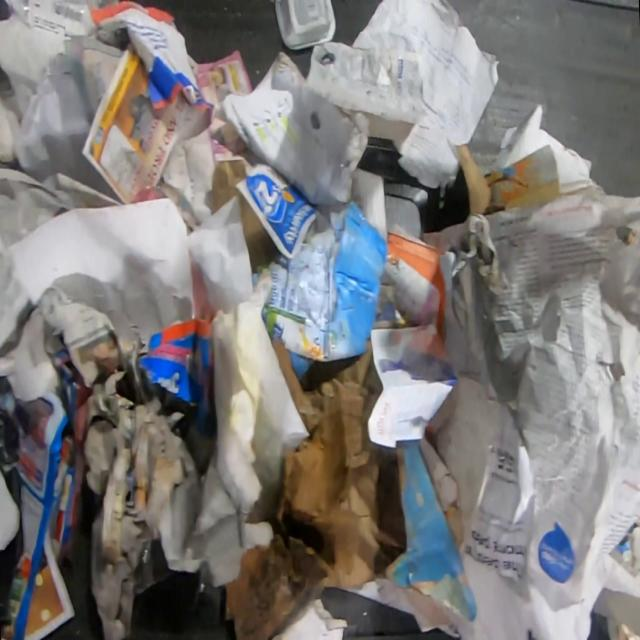cardboard: (222, 336, 405, 640), (382, 371, 504, 624), (262, 198, 388, 378), (0, 388, 76, 640), (132, 311, 218, 442), (204, 159, 270, 270), (454, 143, 492, 215)
soft_plastic: (2, 0, 120, 38)
